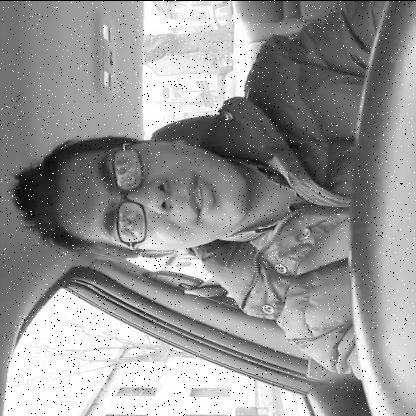seatbelt: (11, 104, 351, 298)
